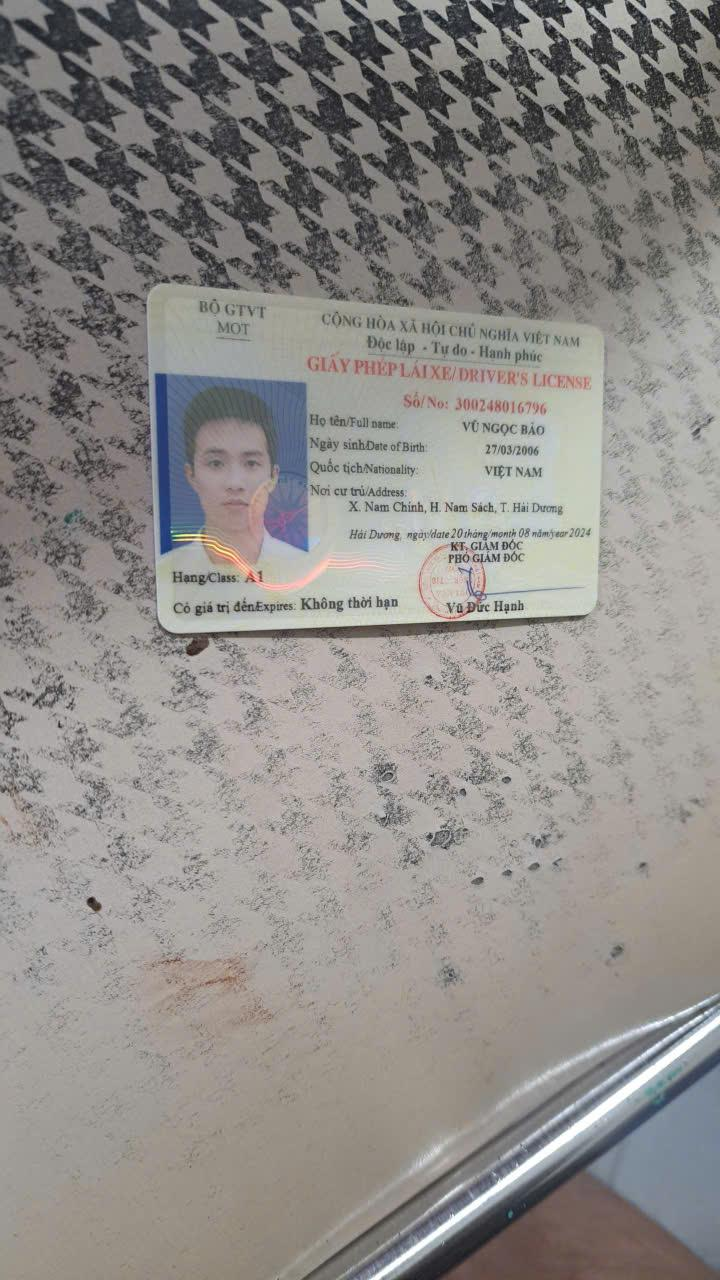gplx: (142, 277, 610, 643)
